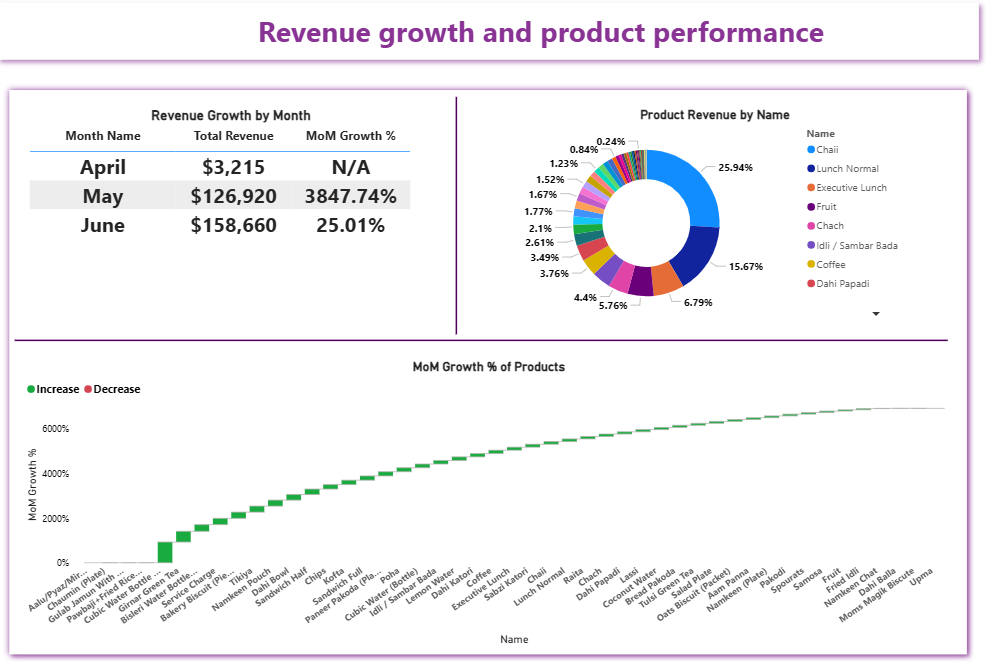

The dashboard page shown, as its layout file describes it:
{"tool":"powerbi","page":{"name":"Page 3","canvas":[1320,900],"ordinal":3},"visuals":[{"type":"shape","box":[0,0,1320,98],"z":0},{"type":"textbox","box":[336,18,788,62],"z":1000},{"type":"shape","box":[18,118,1284,764],"z":2000},{"type":"waterfallChart","title":"MoM Growth % of Products","fields":{"Category":["Product Dimension.Name"],"Y":["Measures table.MoM Growth %"]},"box":[44,482,1234,384],"z":3000},{"type":"donutChart","title":"Product Revenue by Name","fields":{"Category":["Product Dimension.Name"],"Y":["Measures table.Total Revenue"]},"box":[652,150,616,286],"z":4000},{"type":"shape","box":[34,450,1234,16],"z":5000},{"type":"tableEx","title":"Revenue Growth by Month","fields":{"Values":["Dates.Month Name","Measures table.Total Revenue","Measures table.MoM Growth %"]},"box":[48,150,544,286],"z":6000},{"type":"shape","box":[610,136,16,314],"z":7000}]}

Visuals, with their boxes in screenshot pixels (x1, y1, x2, y2), scaled from the page's 1320x900 canvas onto the 986x662 screenshot:
shape: [left=0, top=0, right=985, bottom=72]
textbox: [left=251, top=13, right=840, bottom=59]
shape: [left=13, top=87, right=973, bottom=649]
"MoM Growth % of Products" waterfallChart: [left=33, top=355, right=955, bottom=637]
"Product Revenue by Name" donutChart: [left=487, top=110, right=947, bottom=321]
shape: [left=25, top=331, right=947, bottom=343]
"Revenue Growth by Month" tableEx: [left=36, top=110, right=442, bottom=321]
shape: [left=456, top=100, right=468, bottom=331]
